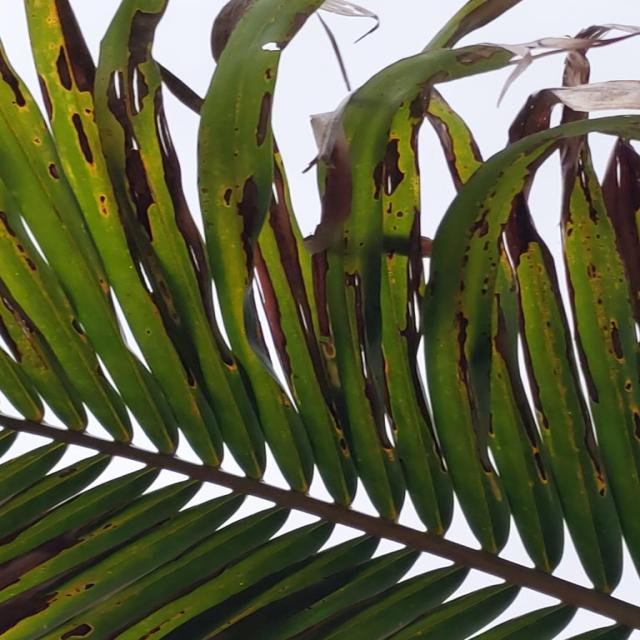leaf rot: (101, 0, 640, 306)
